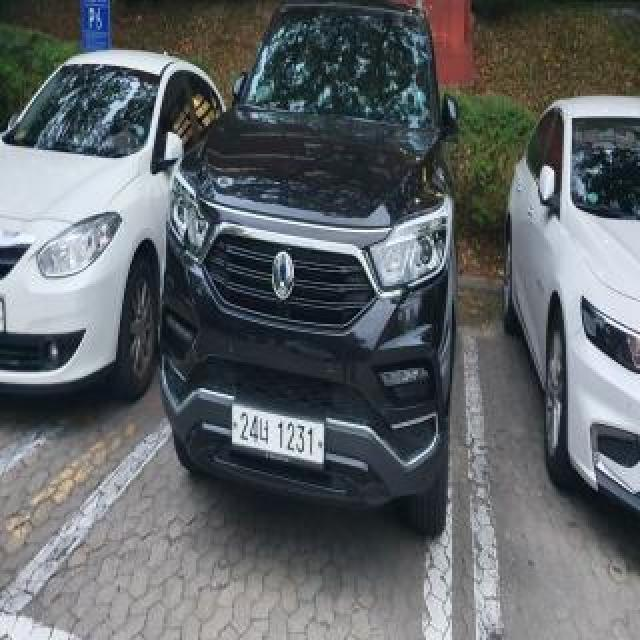car: (158, 0, 474, 545)
illegal_plate: (232, 398, 326, 475)
